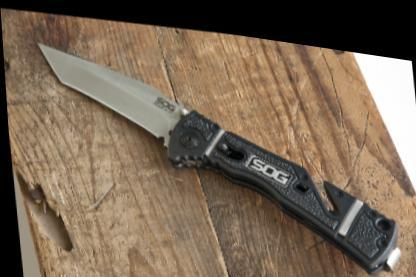knife: (30, 30, 209, 162)
